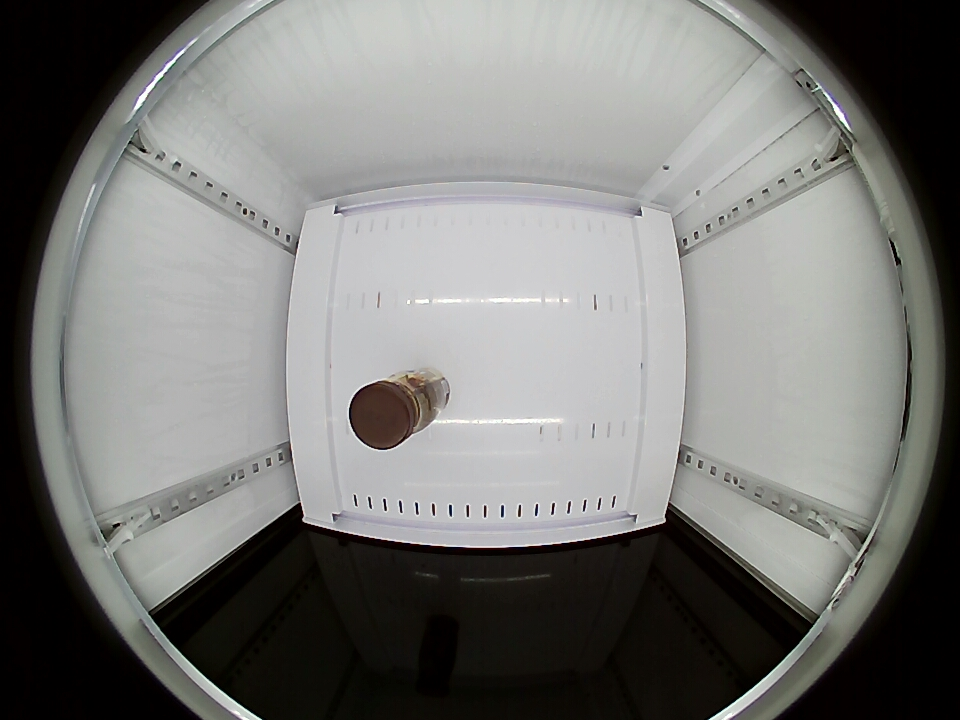lujikafei: (350, 370, 438, 451)
